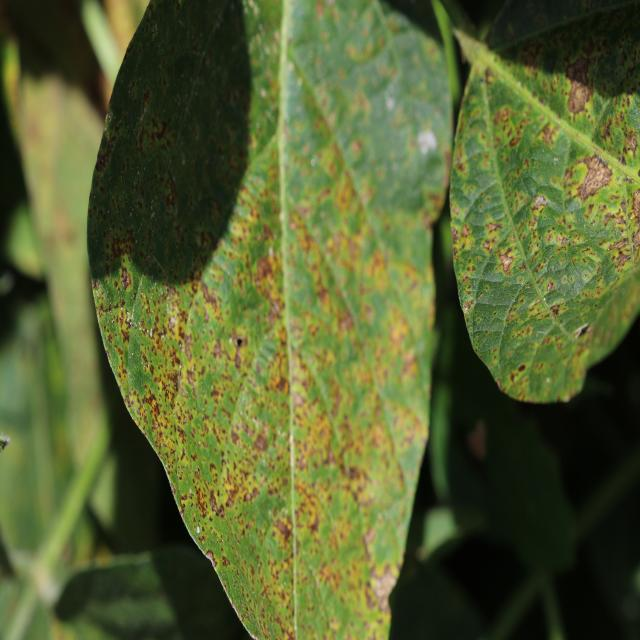Bacterial_Blight: (317, 485, 370, 591), (292, 383, 340, 478), (374, 257, 424, 338), (380, 396, 422, 471), (367, 502, 409, 572), (208, 319, 257, 377), (343, 12, 385, 64), (573, 154, 613, 202), (130, 102, 162, 155), (498, 109, 536, 153), (372, 561, 399, 610), (330, 302, 355, 346), (255, 252, 280, 296), (334, 171, 357, 213), (567, 77, 592, 114), (493, 242, 520, 276), (423, 184, 447, 221), (541, 224, 573, 251), (565, 57, 591, 87), (109, 230, 134, 261), (493, 105, 517, 135), (567, 161, 589, 190), (94, 143, 112, 176), (200, 281, 219, 312), (454, 227, 474, 255), (164, 173, 179, 210), (193, 484, 209, 517), (273, 515, 292, 541), (539, 122, 559, 146), (598, 116, 614, 144), (209, 492, 225, 518), (608, 237, 631, 255), (633, 187, 640, 245), (182, 332, 194, 363), (345, 463, 363, 483), (253, 431, 268, 453), (615, 249, 631, 268), (531, 195, 550, 211), (307, 511, 320, 534), (625, 132, 638, 155), (291, 390, 305, 411), (169, 371, 180, 396), (212, 339, 225, 360), (149, 396, 160, 419), (274, 375, 288, 393), (120, 267, 131, 289), (602, 212, 618, 227), (186, 366, 196, 388), (167, 311, 178, 331), (486, 221, 502, 234), (459, 222, 471, 239), (205, 549, 217, 566), (485, 67, 495, 84), (550, 303, 561, 318), (451, 225, 459, 245), (121, 329, 130, 345), (482, 239, 493, 252), (168, 481, 176, 497), (622, 175, 635, 184), (129, 397, 137, 411), (495, 378, 503, 391), (92, 278, 100, 291), (98, 306, 105, 319), (463, 303, 471, 314), (517, 364, 526, 373), (131, 290, 137, 302), (105, 113, 111, 125), (125, 318, 132, 328), (178, 341, 183, 349)
Soybean: (88, 0, 458, 640)
